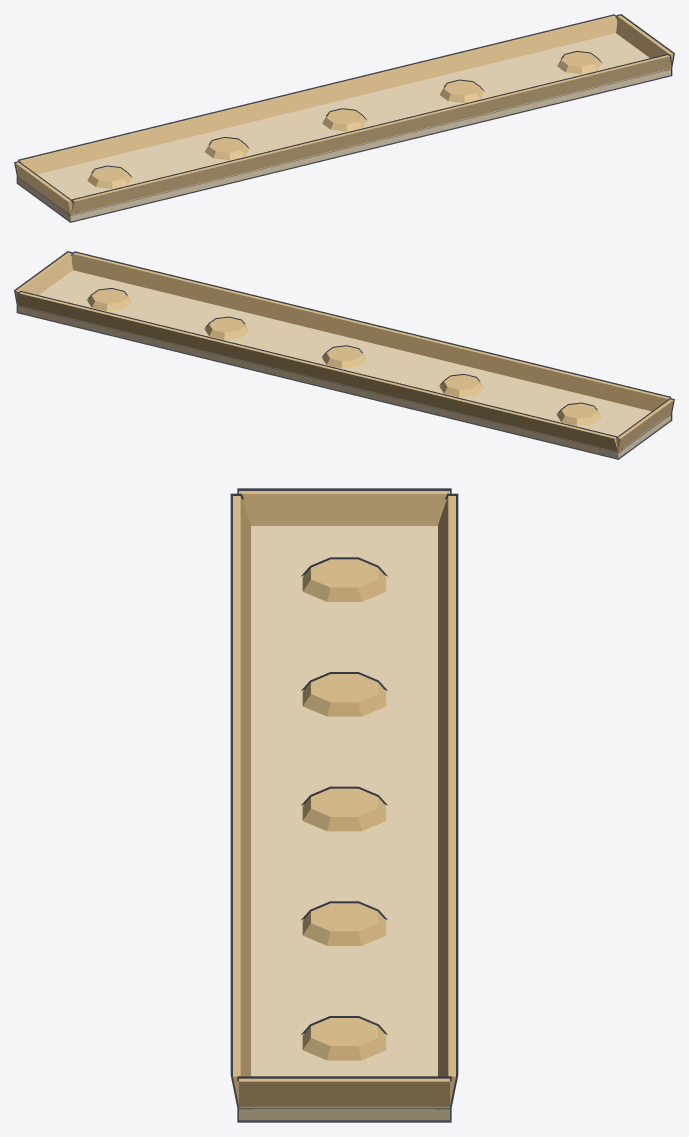
Rendered from crystal_tray.glb.
The picture shows the model from 3 angles, top to bottom: view 1: azimuth 30°, elevation 25°; view 2: azimuth 150°, elevation 25°; view 3: azimuth 270°, elevation 25°; orthographic projection. The views are drawn at different scales.
Visible parts, largest first — view 1: tray, ink_outline; view 2: tray, ink_outline; view 3: tray, ink_outline.
Boxes of the visible parts, x1=… form: tray: x1=15, y1=15, x2=673, y2=221; ink_outline: x1=14, y1=14, x2=674, y2=222; tray: x1=15, y1=252, x2=673, y2=458; ink_outline: x1=14, y1=251, x2=674, y2=459; tray: x1=233, y1=491, x2=455, y2=1120; ink_outline: x1=230, y1=488, x2=458, y2=1122.
Bounding box in the file's own units: 0.4655 × 0.0162 × 0.0755.
